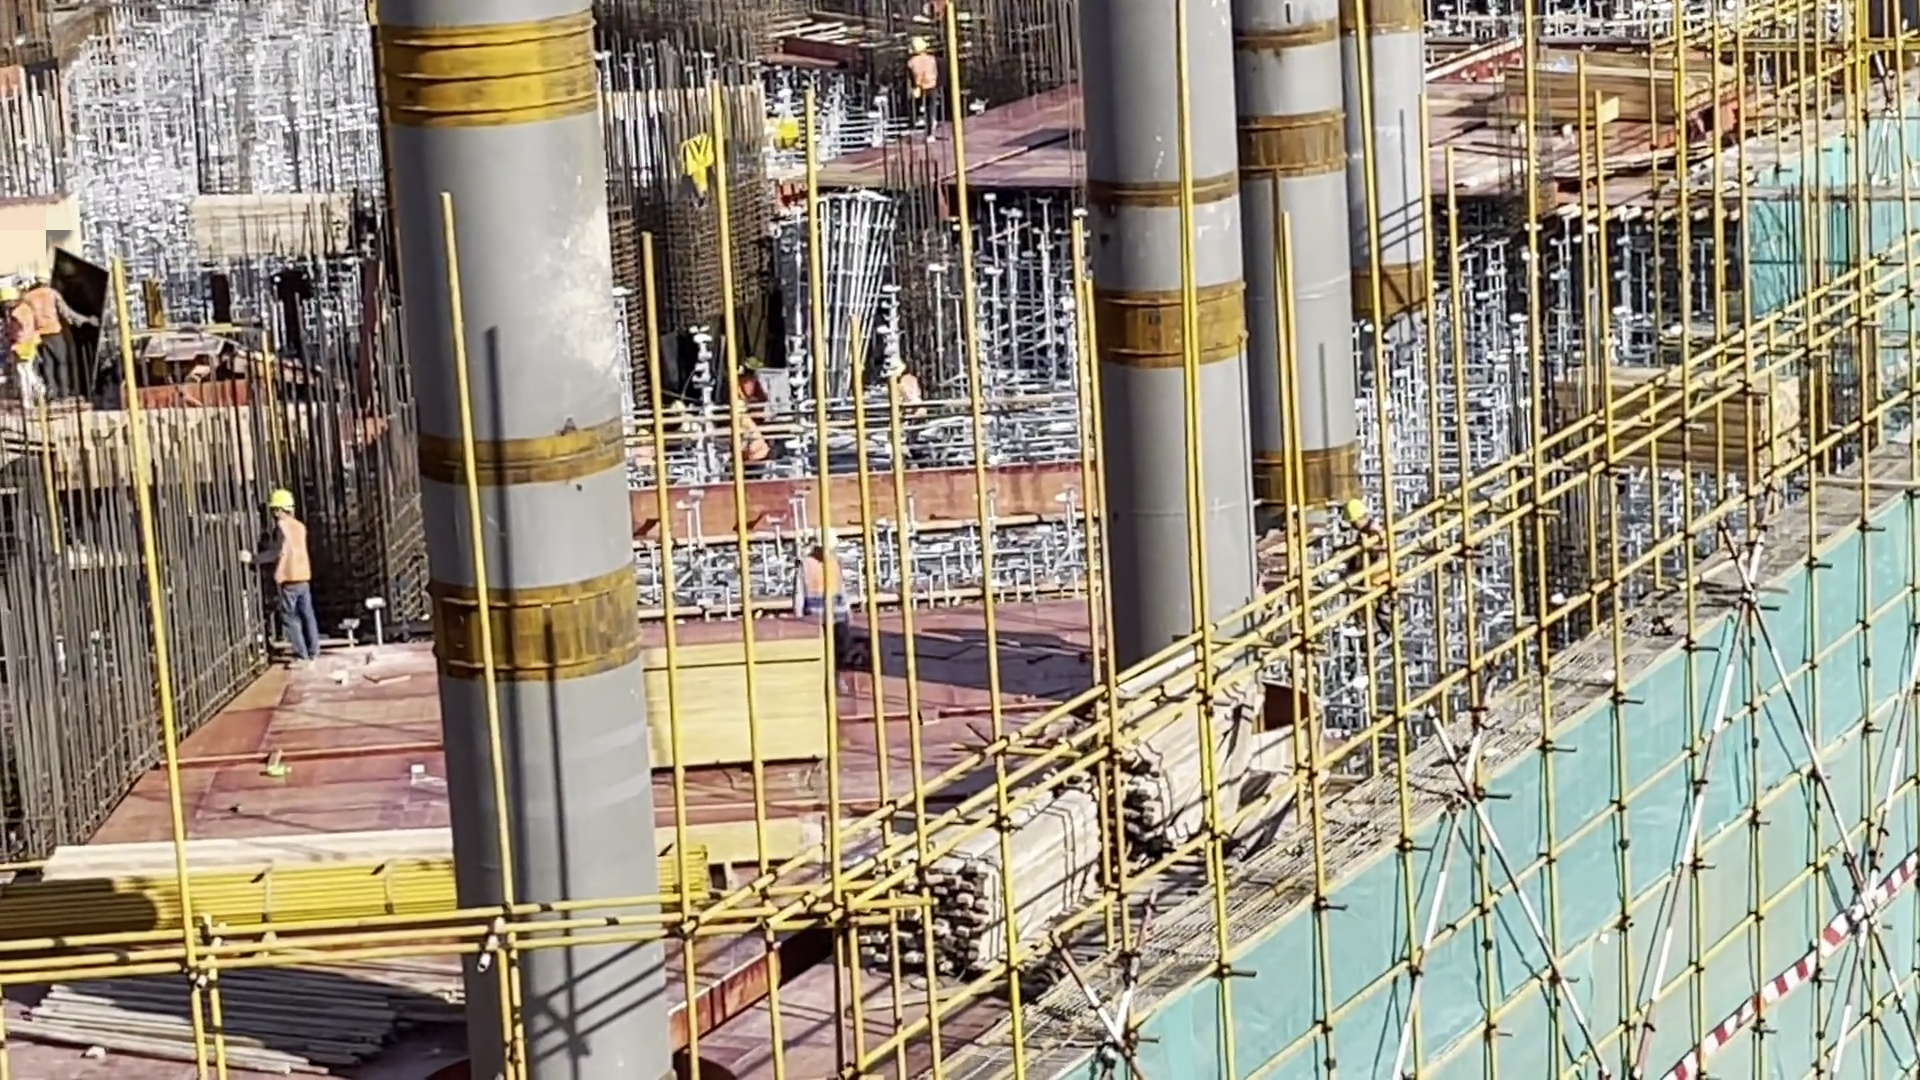helmet: (878, 350, 912, 390), (262, 478, 295, 515), (1, 279, 28, 310)
person: (247, 486, 320, 664), (779, 529, 854, 671), (870, 358, 940, 459), (896, 30, 954, 146), (27, 271, 73, 402), (1, 282, 44, 409), (712, 399, 774, 465)
vest: (263, 518, 311, 584), (797, 554, 844, 604), (22, 283, 62, 329), (904, 57, 938, 90)
